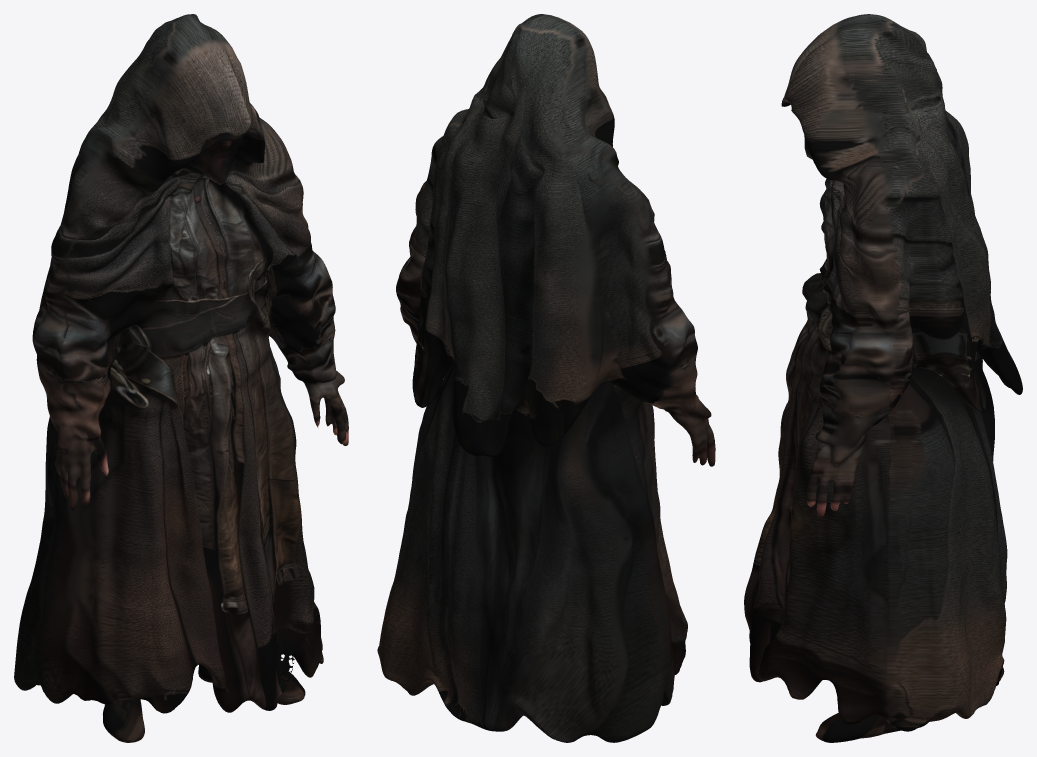
File: монах (1).glb
3 views of the same model, side by side, from view 1: azimuth 30°, elevation 25°; view 2: azimuth 150°, elevation 25°; view 3: azimuth 270°, elevation 25° (orthographic).
Visible parts, largest first — view 1: mesh_007; view 2: mesh_007; view 3: mesh_007.
Boxes of the visible parts, <box> form: mesh_007: <box>14,14,348,742</box>; mesh_007: <box>377,14,715,742</box>; mesh_007: <box>744,14,1022,742</box>.
Size of the model in its own units: 0.8296 by 1.89 by 0.6929.
1 material, 1 textured.
